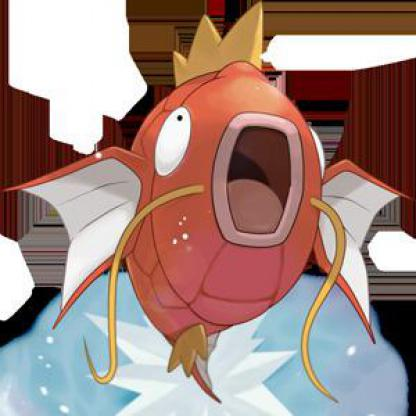Magikarp: (1, 9, 416, 416)
